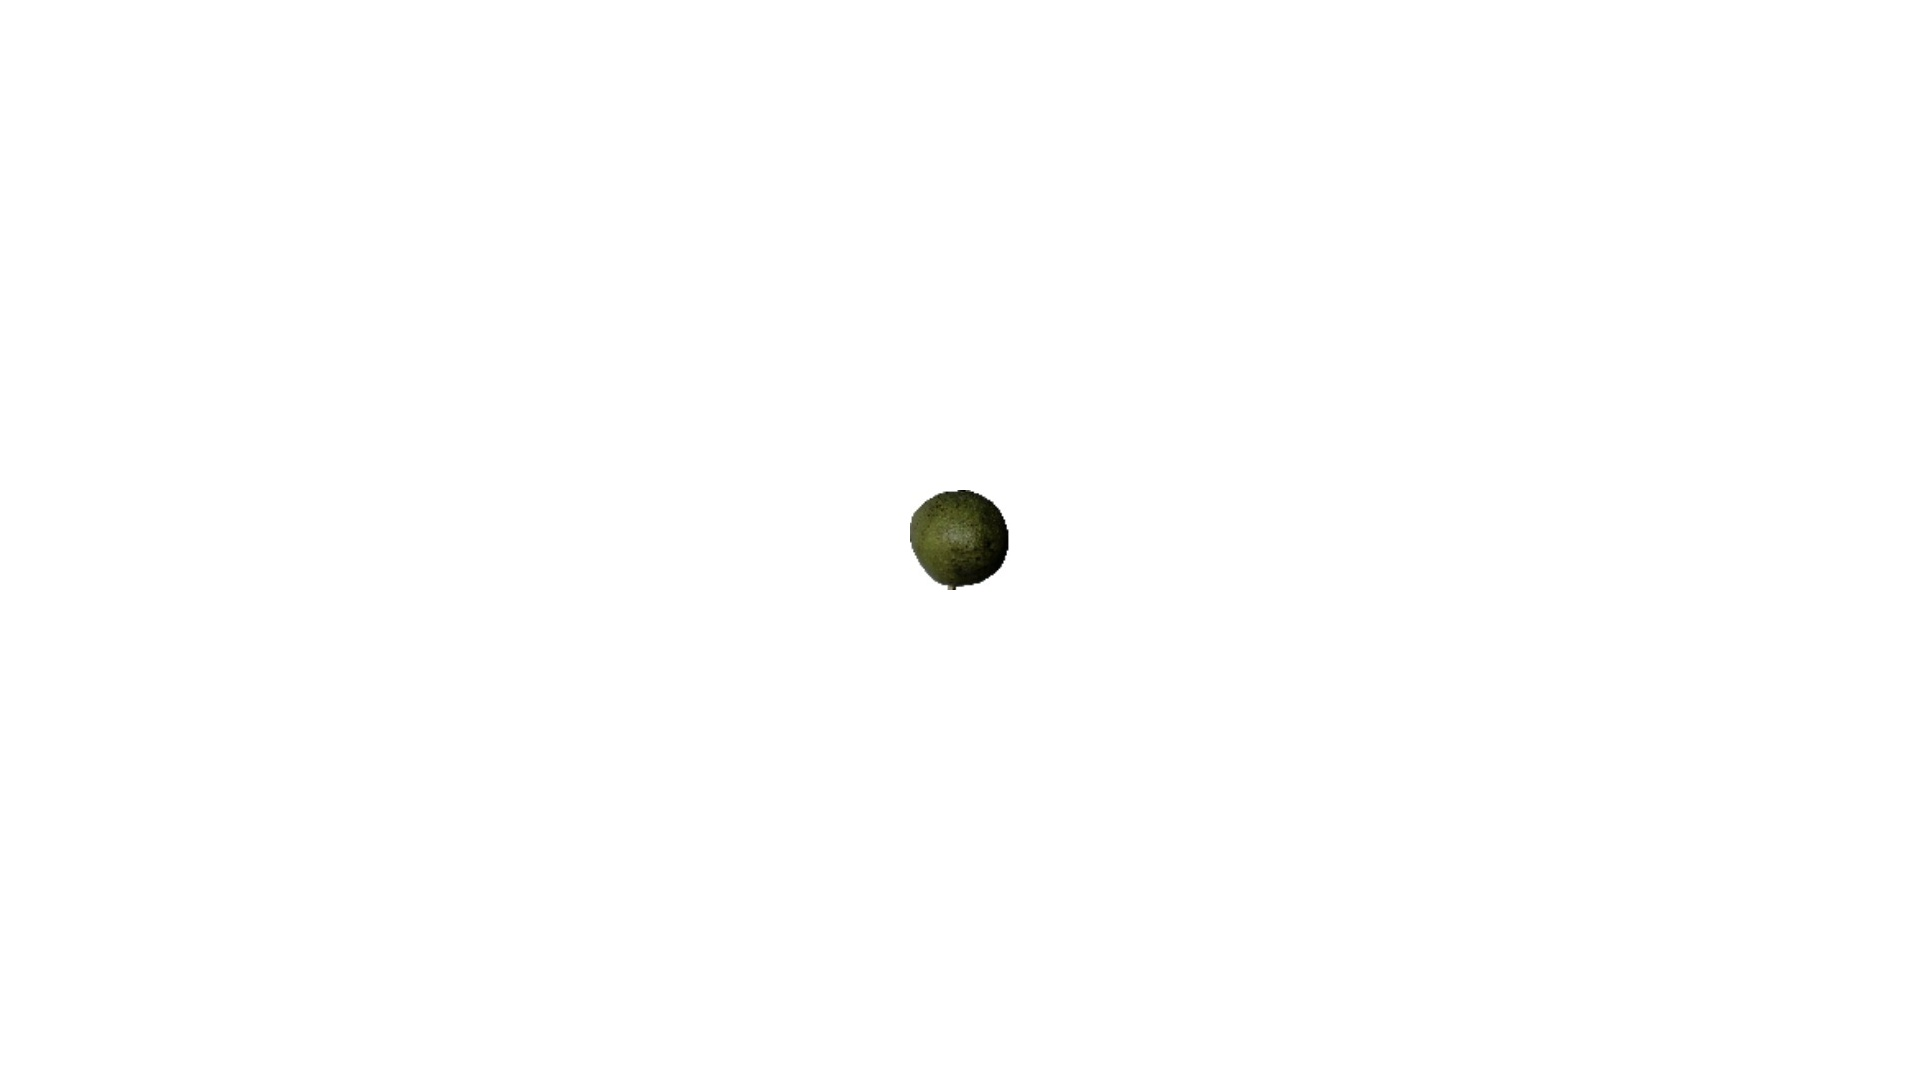abacate: (909, 484, 1014, 589)
